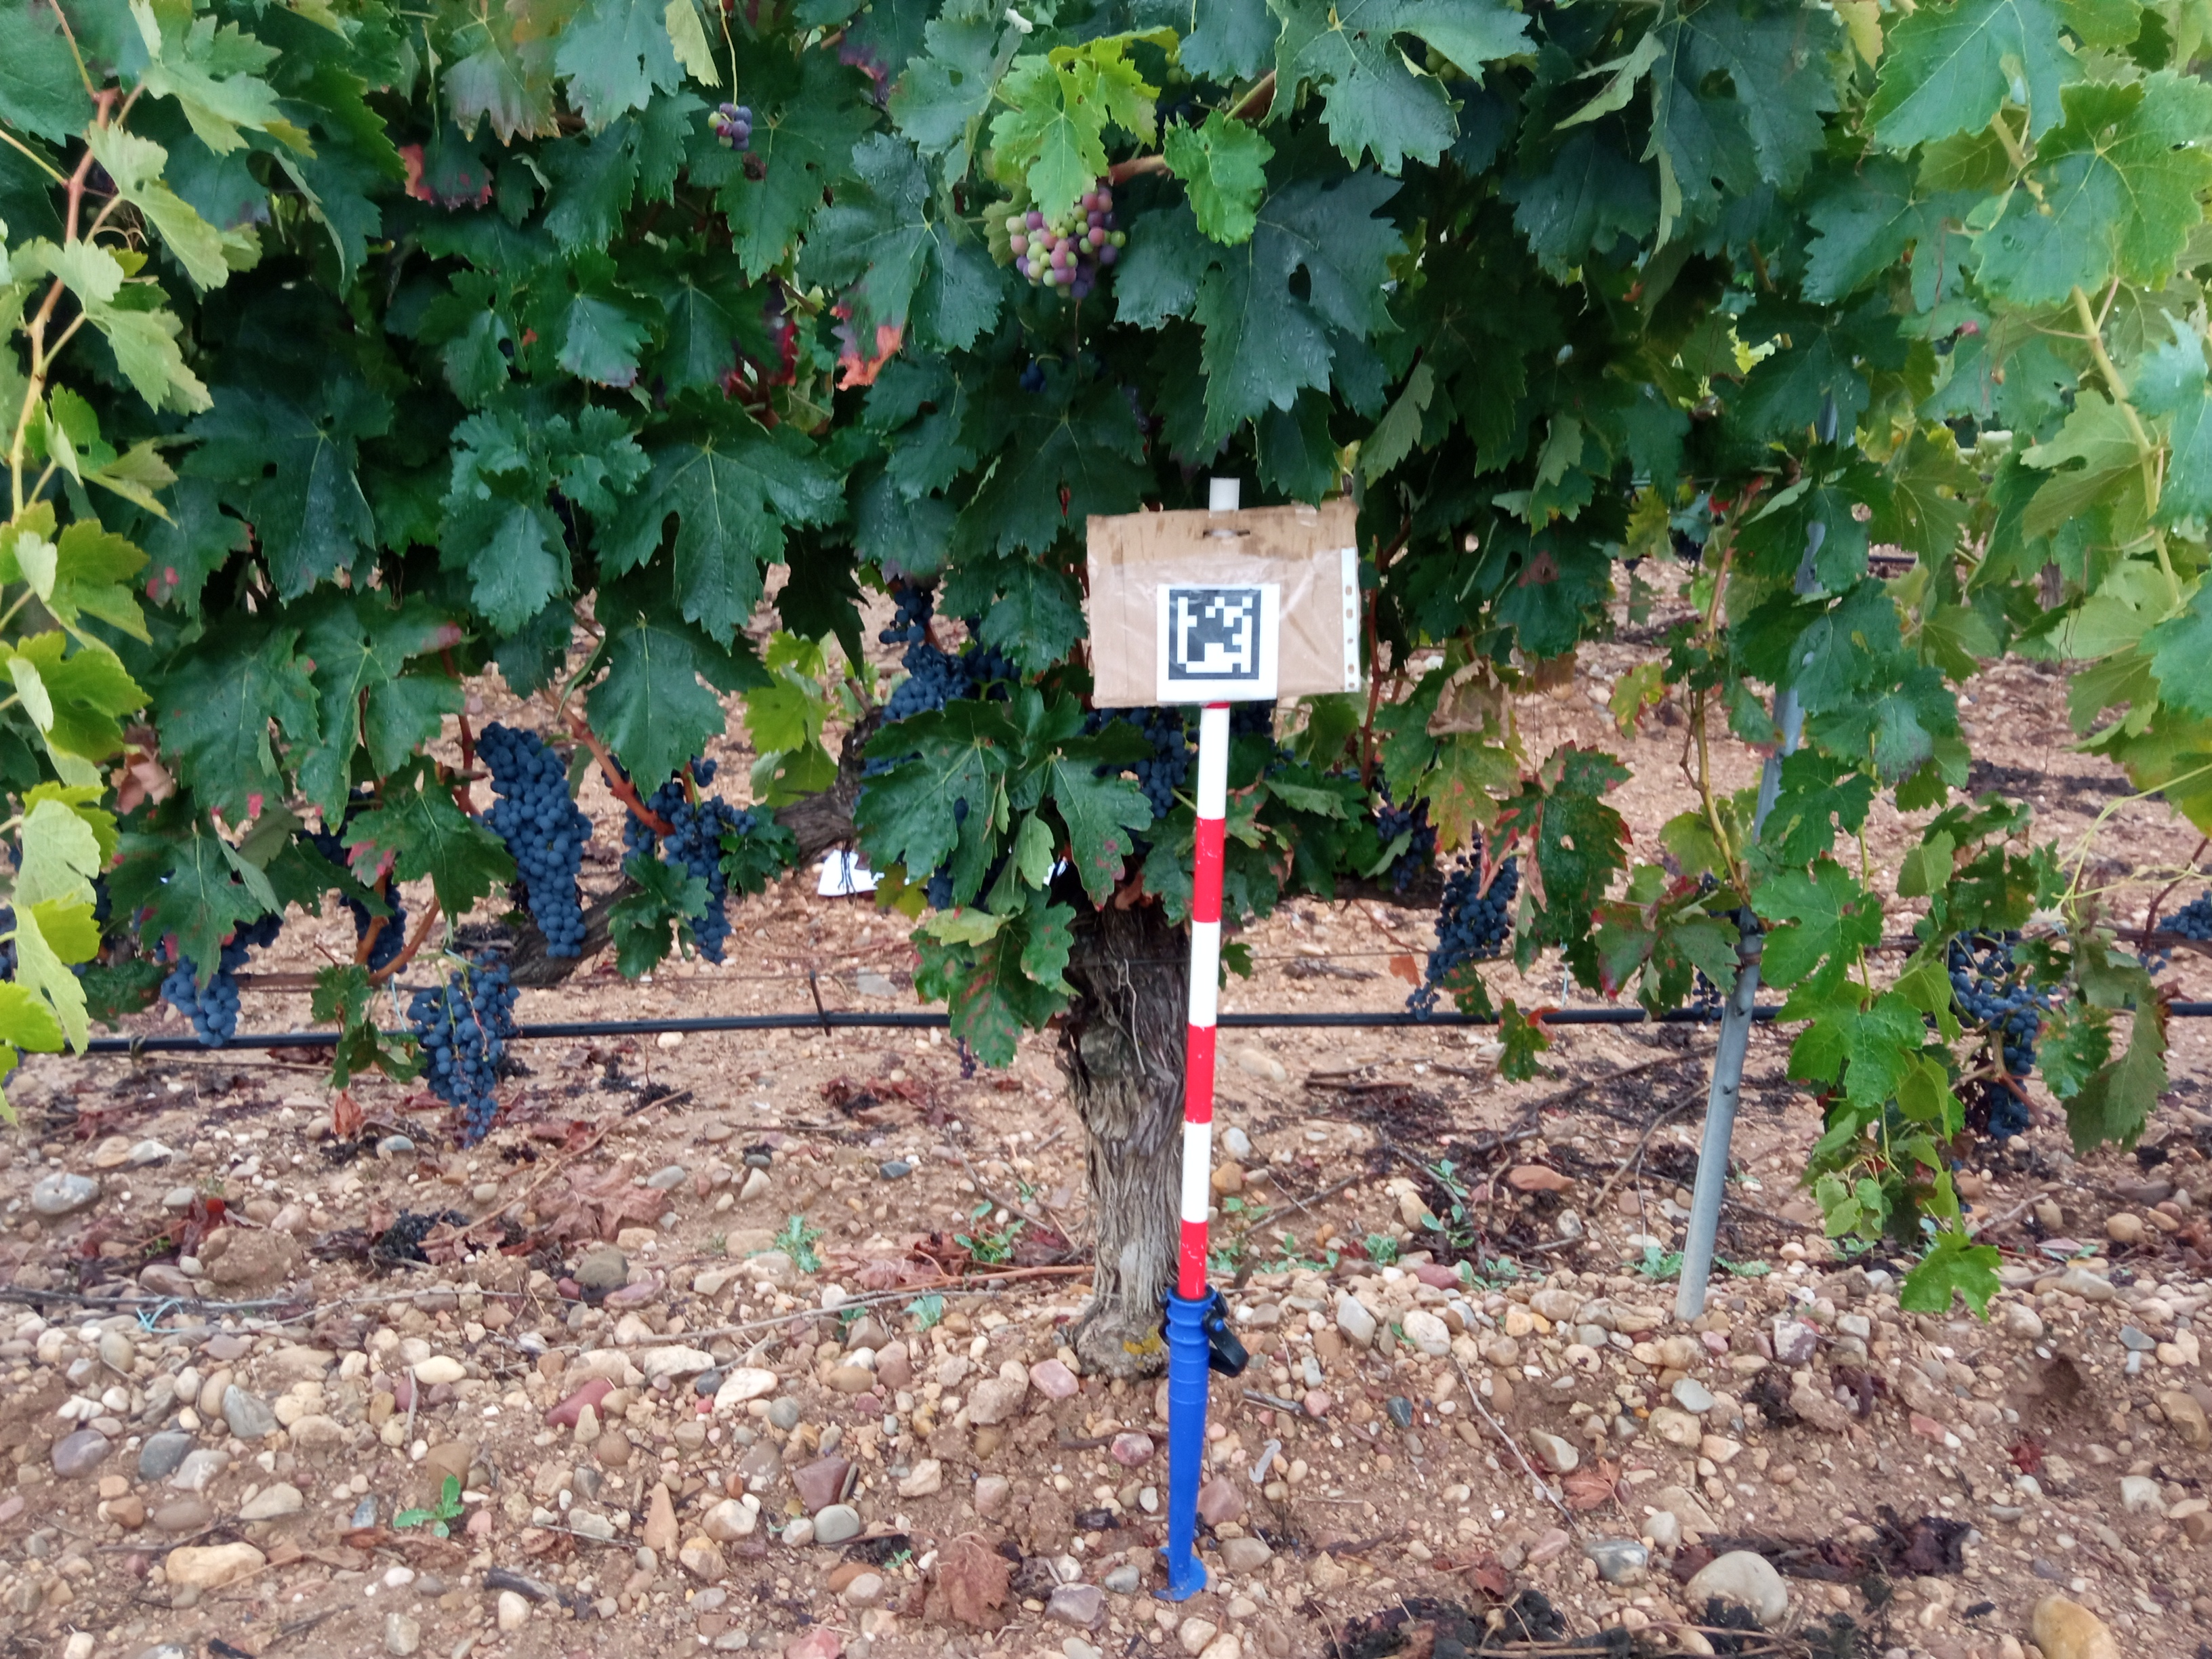grapes: (469, 716, 596, 960), (1944, 920, 2060, 1143), (618, 784, 758, 969), (402, 945, 521, 1150), (1402, 831, 1522, 1023), (1001, 179, 1129, 307), (876, 640, 1026, 727), (152, 945, 246, 1051), (1372, 777, 1437, 897), (336, 875, 409, 976), (2134, 885, 2212, 979), (1132, 727, 1200, 821), (876, 577, 942, 648), (1078, 702, 1184, 730), (705, 98, 758, 153), (228, 906, 286, 950), (300, 821, 350, 868), (1691, 958, 1723, 1030), (1264, 739, 1312, 781), (1231, 699, 1280, 735), (925, 857, 956, 913), (859, 751, 923, 777), (1014, 354, 1050, 399), (1949, 1157, 1977, 1216), (0, 901, 19, 986), (597, 749, 632, 791), (89, 871, 115, 924), (954, 1033, 979, 1082), (345, 784, 376, 819), (688, 755, 719, 789), (1090, 760, 1137, 781), (853, 779, 871, 833), (1324, 763, 1366, 782), (7, 835, 26, 875), (1696, 870, 1719, 896), (956, 796, 968, 829)
